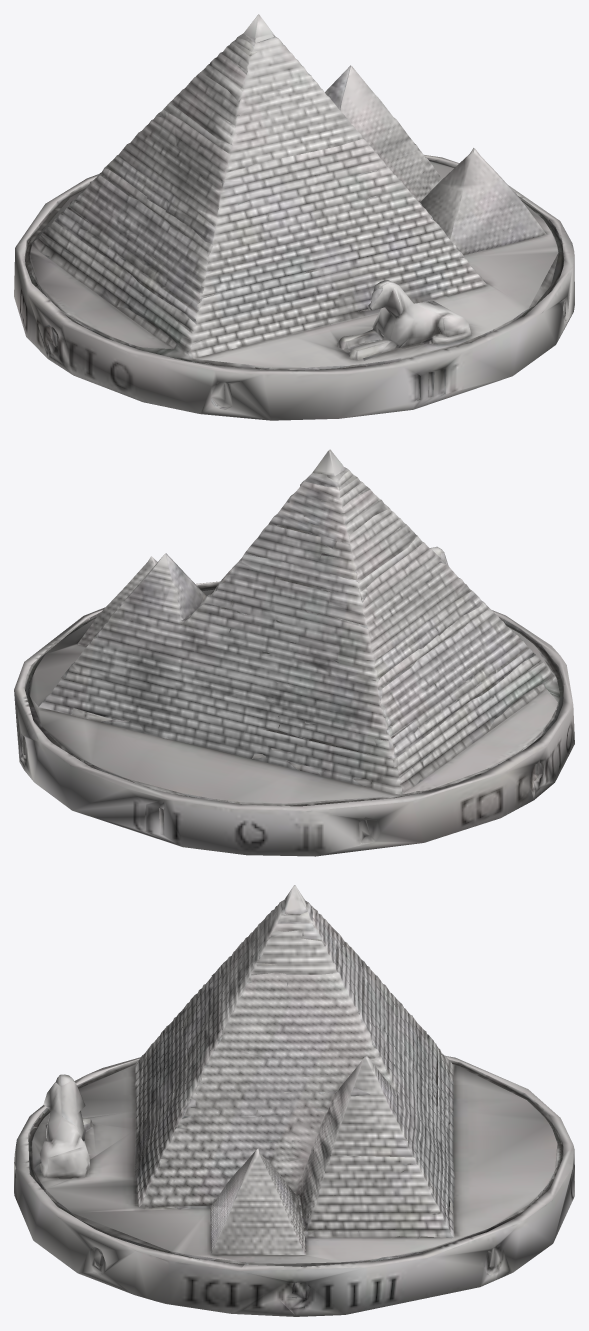
Rendered from pyramid_giza_silver.glb.
The picture shows the model from 3 angles, top to bottom: view 1: azimuth 30°, elevation 25°; view 2: azimuth 150°, elevation 25°; view 3: azimuth 270°, elevation 25°; orthographic projection.
Visible parts, largest first — view 1: Mesh_0; view 2: Mesh_0; view 3: Mesh_0.
Boxes of the visible parts, x1,y1,x2,y2 form: Mesh_0: (14,14,574,420); Mesh_0: (14,449,574,856); Mesh_0: (14,885,574,1316).
Bounding box in the file's own units: 1.91 × 1.12 × 1.91.
1 material, 1 textured.
